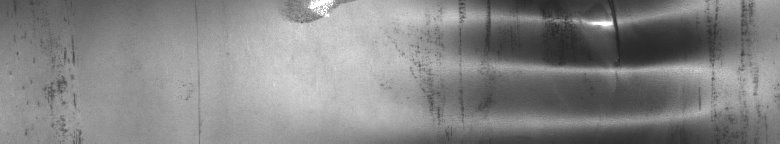ke: (460, 4, 744, 122)
